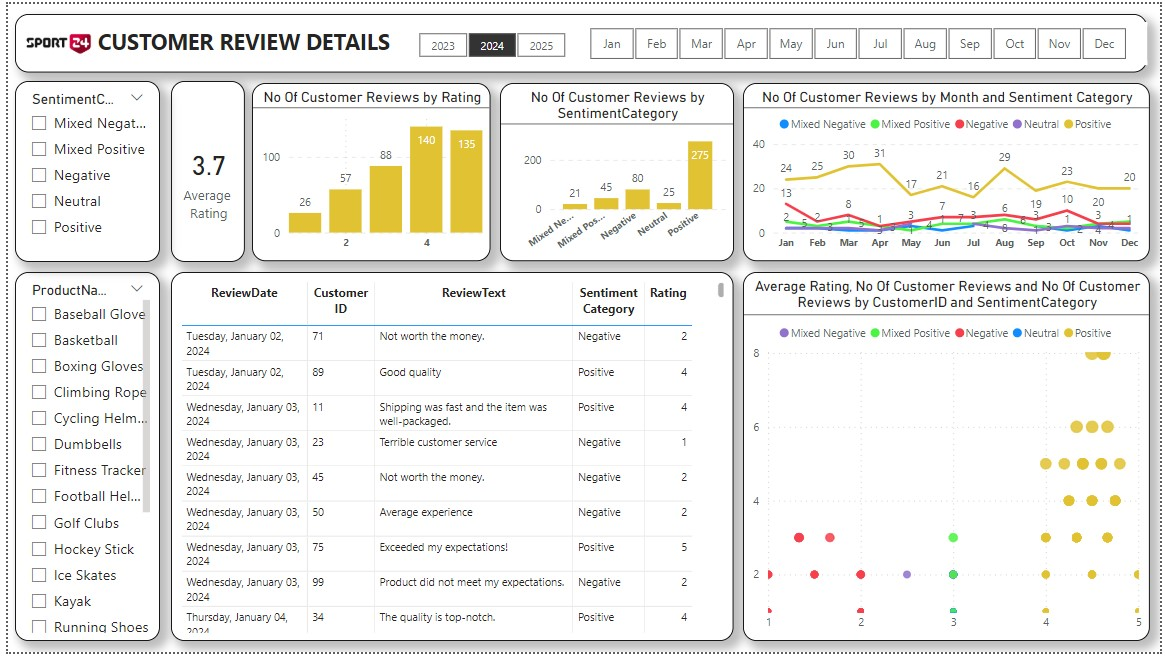

The dashboard page shown, as its layout file describes it:
{"tool":"powerbi","page":{"name":"Customer Review Details","canvas":[1280,720],"ordinal":3},"visuals":[{"type":"textbox","box":[8,11.4,1257.7,64.9],"z":0},{"type":"slicer","fields":{"Values":["Calendar.Date.Variation.Date Hierarchy.Year"]},"box":[430.6,25.1,211.9,38.7],"z":1000},{"type":"slicer","fields":{"Values":["Calendar.MonthNameShort"]},"box":[620.9,20.5,644.8,47.8],"z":2000},{"type":"slicer","fields":{"Values":["dim_products.ProductName"]},"box":[8,297.3,160.6,410.1],"z":3000},{"type":"card","title":"No Of Customer Reviews","fields":{"Values":["Measures_.Avrage Rating"]},"box":[181.1,85.4,82,200.5],"z":4000},{"type":"columnChart","fields":{"Category":["fact_customer_reviews_with_sentiment.Rating"],"Y":["Measures_.No Of Customer Reviews"]},"box":[271.1,87.7,265.4,198.2],"z":5000},{"type":"columnChart","fields":{"Y":["Measures_.No Of Customer Reviews"],"Category":["fact_customer_reviews_with_sentiment.SentimentCategory"]},"box":[546.8,87.7,259.7,198.2],"z":6000},{"type":"lineChart","title":"No Of Customer Reviews by Month and Sentiment Category","fields":{"Category":["Calendar.MonthNameShort"],"Series":["fact_customer_reviews_with_sentiment.SentimentCategory"],"Y":["Measures_.No Of Customer Reviews"]},"box":[816.8,87.7,452.3,198.2],"z":7000},{"type":"tableEx","fields":{"Values":["fact_customer_reviews_with_sentiment.ReviewDate","fact_customer_reviews_with_sentiment.CustomerID","fact_customer_reviews_with_sentiment.ReviewText","fact_customer_reviews_with_sentiment.SentimentCategory","fact_customer_reviews_with_sentiment.Rating"]},"box":[181.1,297.3,625.4,410.1],"z":8000},{"type":"scatterChart","fields":{"X":["Measures_.Avrage Rating"],"Y":["Measures_.No Of Customer Reviews"],"Series":["fact_customer_reviews_with_sentiment.SentimentCategory"],"Category":["dim_ customers.CustomerID"],"Size":["Measures_.No Of Customer Reviews"]},"box":[816.8,297.3,452.3,410.1],"z":9000},{"type":"slicer","fields":{"Values":["fact_customer_reviews_with_sentiment.SentimentCategory"]},"box":[8,85.4,160.6,200.5],"z":10000},{"type":"image","box":[8,0,96.8,87.7],"z":10001}]}

Visuals, with their boxes in screenshot pixels (x1, y1, x2, y2), scaled from the page's 1280x720 canvas onto the 1165x656 screenshot:
textbox: bbox(7, 10, 1152, 70)
slicer - Calendar.Date.Variation.Date Hierarchy.Year: bbox(392, 23, 585, 58)
slicer - Calendar.MonthNameShort: bbox(565, 19, 1152, 62)
slicer - dim_products.ProductName: bbox(7, 271, 153, 645)
"No Of Customer Reviews" card: bbox(165, 78, 239, 260)
columnChart - fact_customer_reviews_with_sentiment.Rating x Measures_.No Of Customer Reviews: bbox(247, 80, 488, 260)
columnChart - Measures_.No Of Customer Reviews x fact_customer_reviews_with_sentiment.SentimentCategory: bbox(498, 80, 734, 260)
"No Of Customer Reviews by Month and Sentiment Category" lineChart: bbox(743, 80, 1155, 260)
tableEx - fact_customer_reviews_with_sentiment.ReviewDate x fact_customer_reviews_with_sentiment.CustomerID: bbox(165, 271, 734, 645)
scatterChart - Measures_.Avrage Rating x Measures_.No Of Customer Reviews: bbox(743, 271, 1155, 645)
slicer - fact_customer_reviews_with_sentiment.SentimentCategory: bbox(7, 78, 153, 260)
image: bbox(7, 0, 95, 80)
